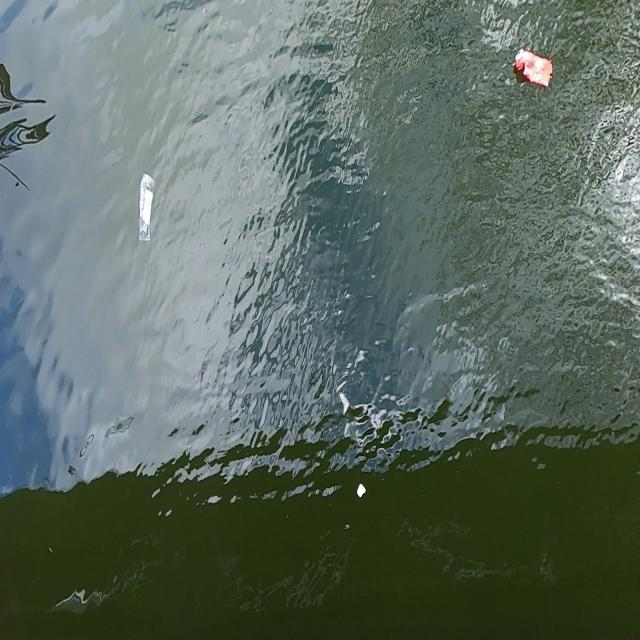Sac plastique: (135, 173, 159, 248)
